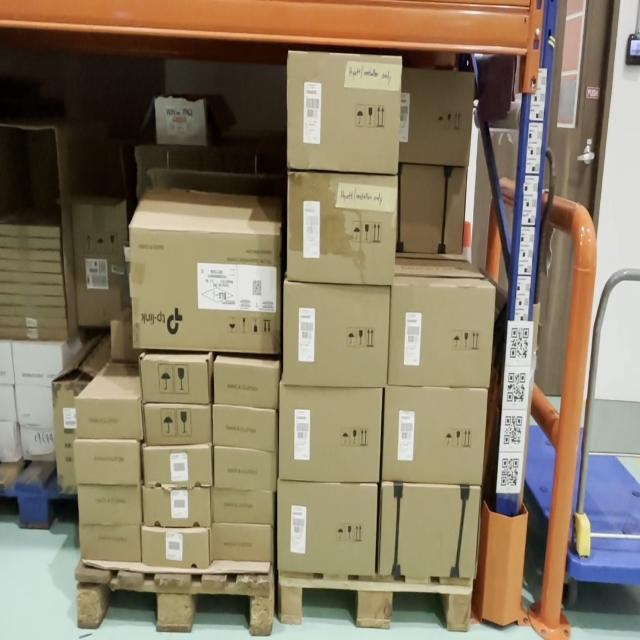box: (133, 229, 280, 351), (289, 55, 398, 171), (288, 173, 393, 280), (388, 286, 495, 388), (383, 386, 487, 486), (284, 286, 388, 384), (380, 484, 480, 578), (280, 388, 380, 478), (278, 486, 376, 569), (399, 67, 474, 165), (71, 200, 128, 325), (396, 164, 467, 254), (52, 382, 89, 495), (141, 359, 208, 404), (143, 445, 212, 487), (214, 363, 278, 408), (74, 441, 140, 484), (214, 406, 277, 451), (142, 527, 210, 567), (75, 399, 143, 439), (214, 447, 277, 490), (143, 405, 211, 444), (143, 488, 210, 527), (77, 485, 142, 525), (79, 526, 142, 564), (212, 487, 273, 526), (155, 98, 205, 145), (12, 343, 63, 388), (213, 524, 272, 562), (16, 386, 54, 428), (20, 426, 56, 461), (0, 305, 66, 319), (0, 327, 68, 340), (0, 271, 63, 285), (0, 316, 67, 328), (0, 260, 61, 273), (0, 224, 60, 237), (0, 283, 64, 295), (0, 237, 61, 249), (0, 249, 60, 261), (0, 294, 65, 305), (0, 422, 17, 461), (0, 385, 17, 423), (0, 341, 15, 384)
